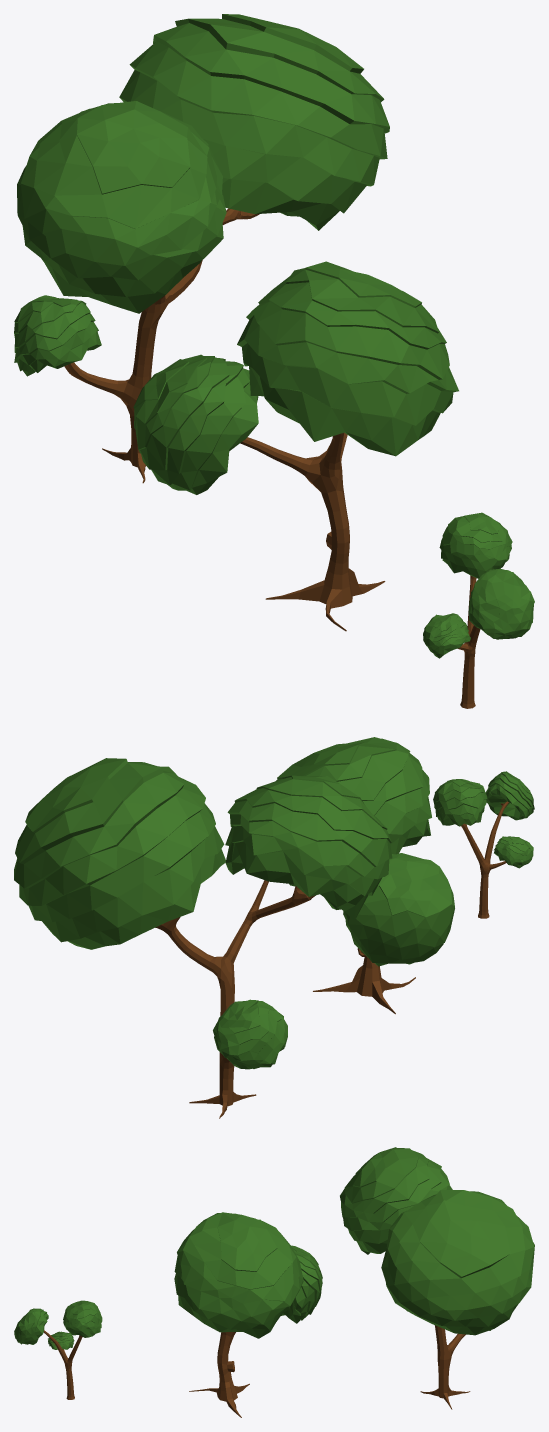
Rendered from LP B TREES ST1.fbx.
3 renders of one model, top to bottom at view 1: azimuth 30°, elevation 25°; view 2: azimuth 150°, elevation 25°; view 3: azimuth 270°, elevation 25°, orthographic. The views are drawn at different scales.
Parts seen in each view (by area): view 1: Leaves 1.001, TreeTrunkM, TreeTrunkS; view 2: Leaves 1.001, TreeTrunkM, TreeTrunkS; view 3: Leaves 1.001, TreeTrunkM, TreeTrunkS.
Boxes of the visible parts, x1,y1,x2,y2 form: Leaves 1.001: (14, 14, 389, 483); TreeTrunkM: (133, 261, 458, 631); TreeTrunkS: (423, 512, 534, 708); Leaves 1.001: (14, 758, 392, 1118); TreeTrunkM: (276, 737, 454, 1014); TreeTrunkS: (433, 771, 534, 918); Leaves 1.001: (340, 1147, 534, 1409); TreeTrunkM: (174, 1212, 322, 1417); TreeTrunkS: (14, 1300, 102, 1399).
Size of the model in its own units: 1190 by 1185 by 2389.
